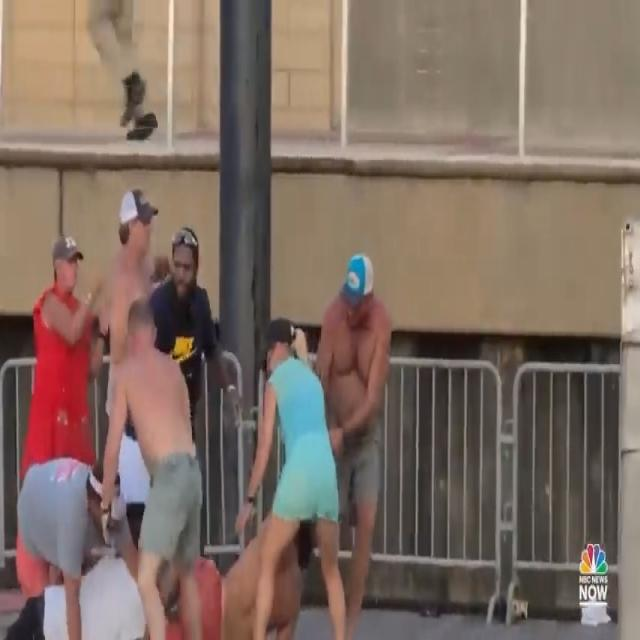fight: (6, 182, 395, 640)
